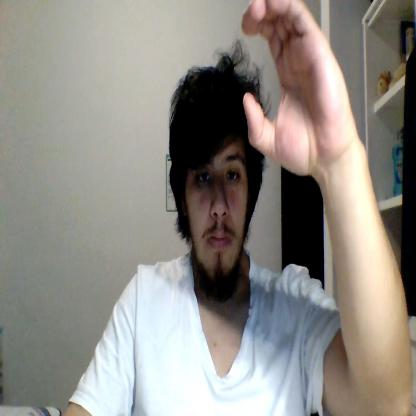C: (242, 0, 353, 173)
